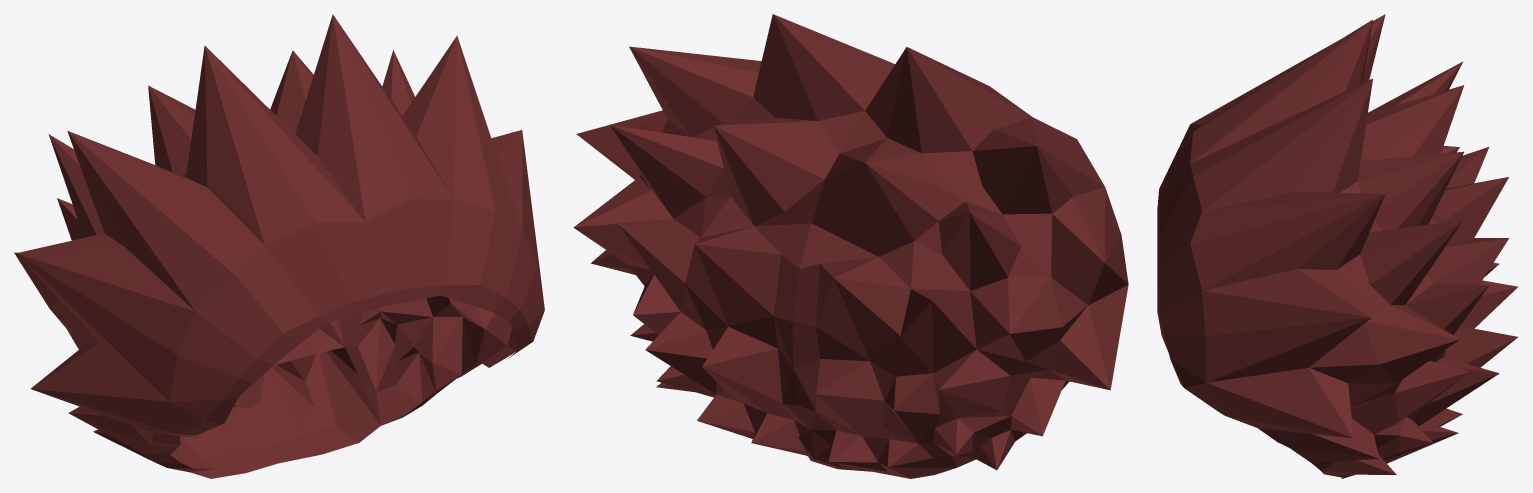
File: MAIN HAIR.fbx
3 views of the same model, side by side, from view 1: azimuth 30°, elevation 25°; view 2: azimuth 150°, elevation 25°; view 3: azimuth 270°, elevation 25° (orthographic). The views are drawn at different scales.
Parts seen in each view (by area): view 1: Plane.004; view 2: Plane.004; view 3: Plane.004.
Part boxes in pixels (x1,y1,x2,y2): Plane.004: (14,14,544,478); Plane.004: (573,14,1128,478); Plane.004: (1157,14,1518,478).
Size of the model in its own units: 351 by 284 by 230.
